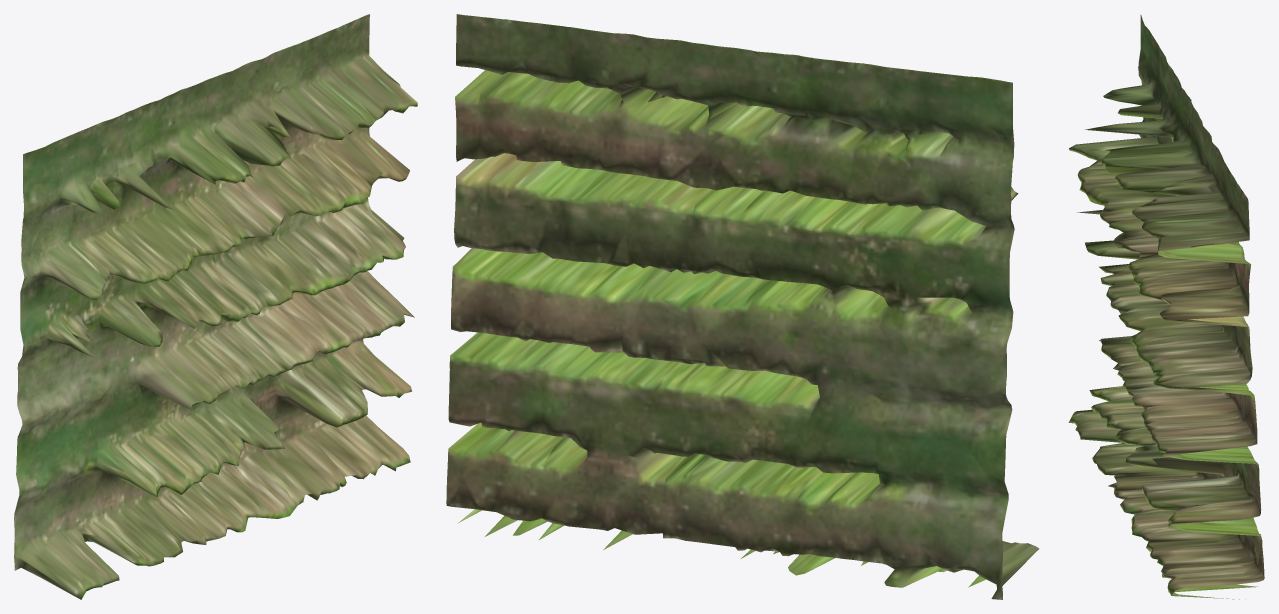
File: map_230_20.obj
3 renders of one model, left to right at view 1: azimuth 30°, elevation 25°; view 2: azimuth 150°, elevation 25°; view 3: azimuth 270°, elevation 25°, orthographic. The views are drawn at different scales.
Visible parts, largest first — view 1: map_230_20.obj; view 2: map_230_20.obj; view 3: map_230_20.obj.
Boxes of the visible parts, x1=… form: map_230_20.obj: x1=14, y1=14, x2=417, y2=599; map_230_20.obj: x1=446, y1=14, x2=1039, y2=599; map_230_20.obj: x1=1068, y1=14, x2=1264, y2=599.
Size of the model in its own units: 10 by 10 by 4.45.
Materials: 1 (1 with a texture image).
